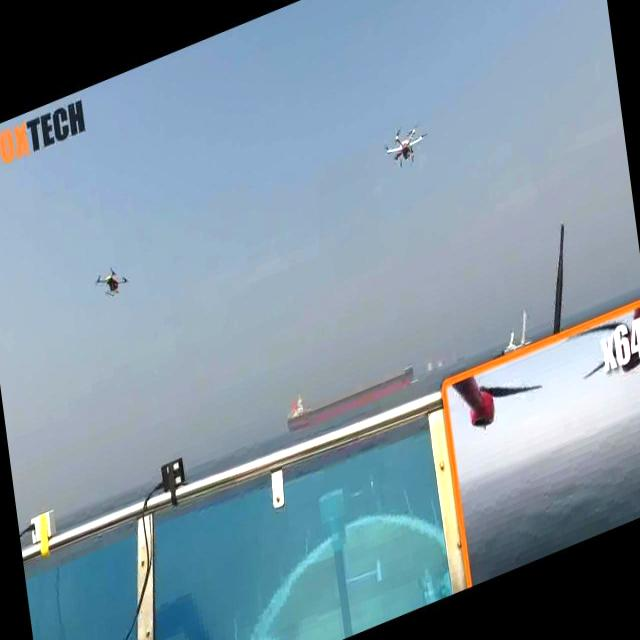drone: (379, 114, 431, 175), (92, 257, 131, 309)
